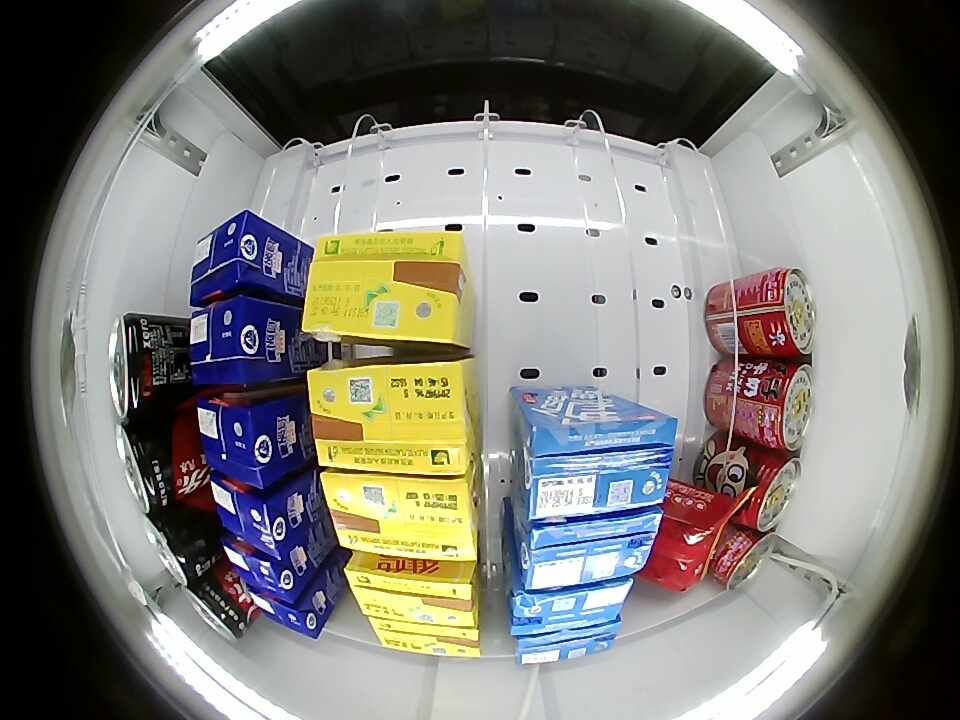bingqilinniunai: (198, 393, 301, 491), (189, 295, 290, 387), (191, 210, 284, 305), (211, 474, 312, 559), (221, 534, 315, 603), (245, 583, 333, 639)
kaomo_shaokao: (645, 488, 728, 592)
lingdukele: (115, 418, 189, 514), (110, 312, 175, 420), (143, 506, 212, 586), (182, 573, 250, 642)
wangzainiunai: (740, 268, 816, 359), (741, 361, 815, 452), (729, 450, 802, 533), (711, 525, 778, 590)
weitanai: (521, 409, 676, 522), (516, 506, 663, 591), (508, 577, 634, 637), (514, 619, 621, 666)
weitaningmeng: (300, 228, 469, 346), (308, 360, 476, 475), (321, 471, 479, 562), (343, 554, 480, 628), (369, 616, 483, 658)
